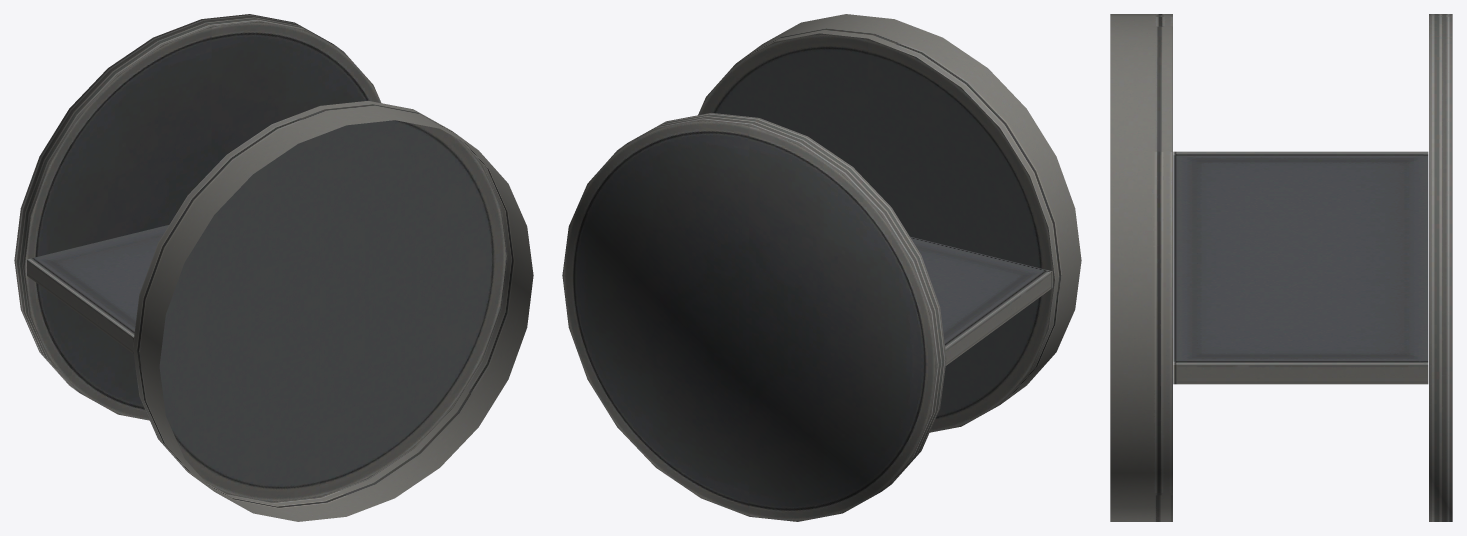
File: nt_2020_cup_holder_LOD0.obj
3 renders of one model, left to right at view 1: azimuth 30°, elevation 25°; view 2: azimuth 150°, elevation 25°; view 3: azimuth 270°, elevation 25°, orthographic. The views are drawn at different scales.
Visible parts, largest first — view 1: mtl_nt_2020_cup_holder; view 2: mtl_nt_2020_cup_holder; view 3: mtl_nt_2020_cup_holder.
Part boxes in pixels (<box>): mtl_nt_2020_cup_holder: <box>14,14,533,521</box>; mtl_nt_2020_cup_holder: <box>562,14,1081,521</box>; mtl_nt_2020_cup_holder: <box>1110,14,1452,521</box>.
Size of the model in its own units: 60.99 by 60.99 by 40.97.
